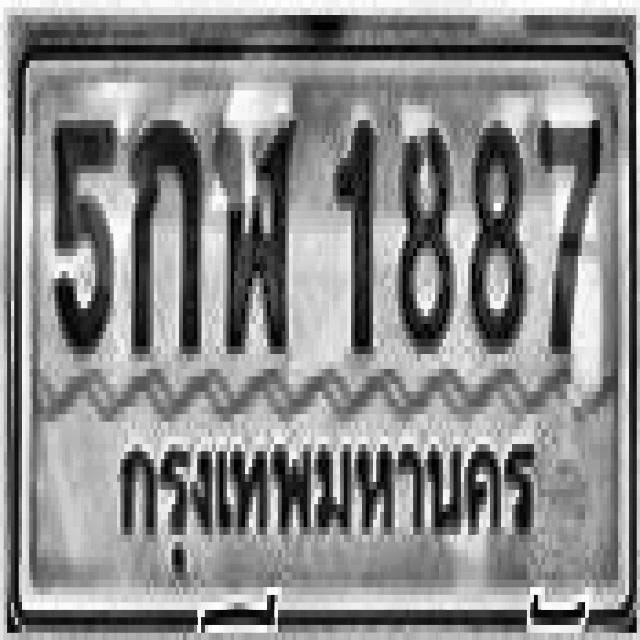license-plate: (16, 40, 634, 620)
